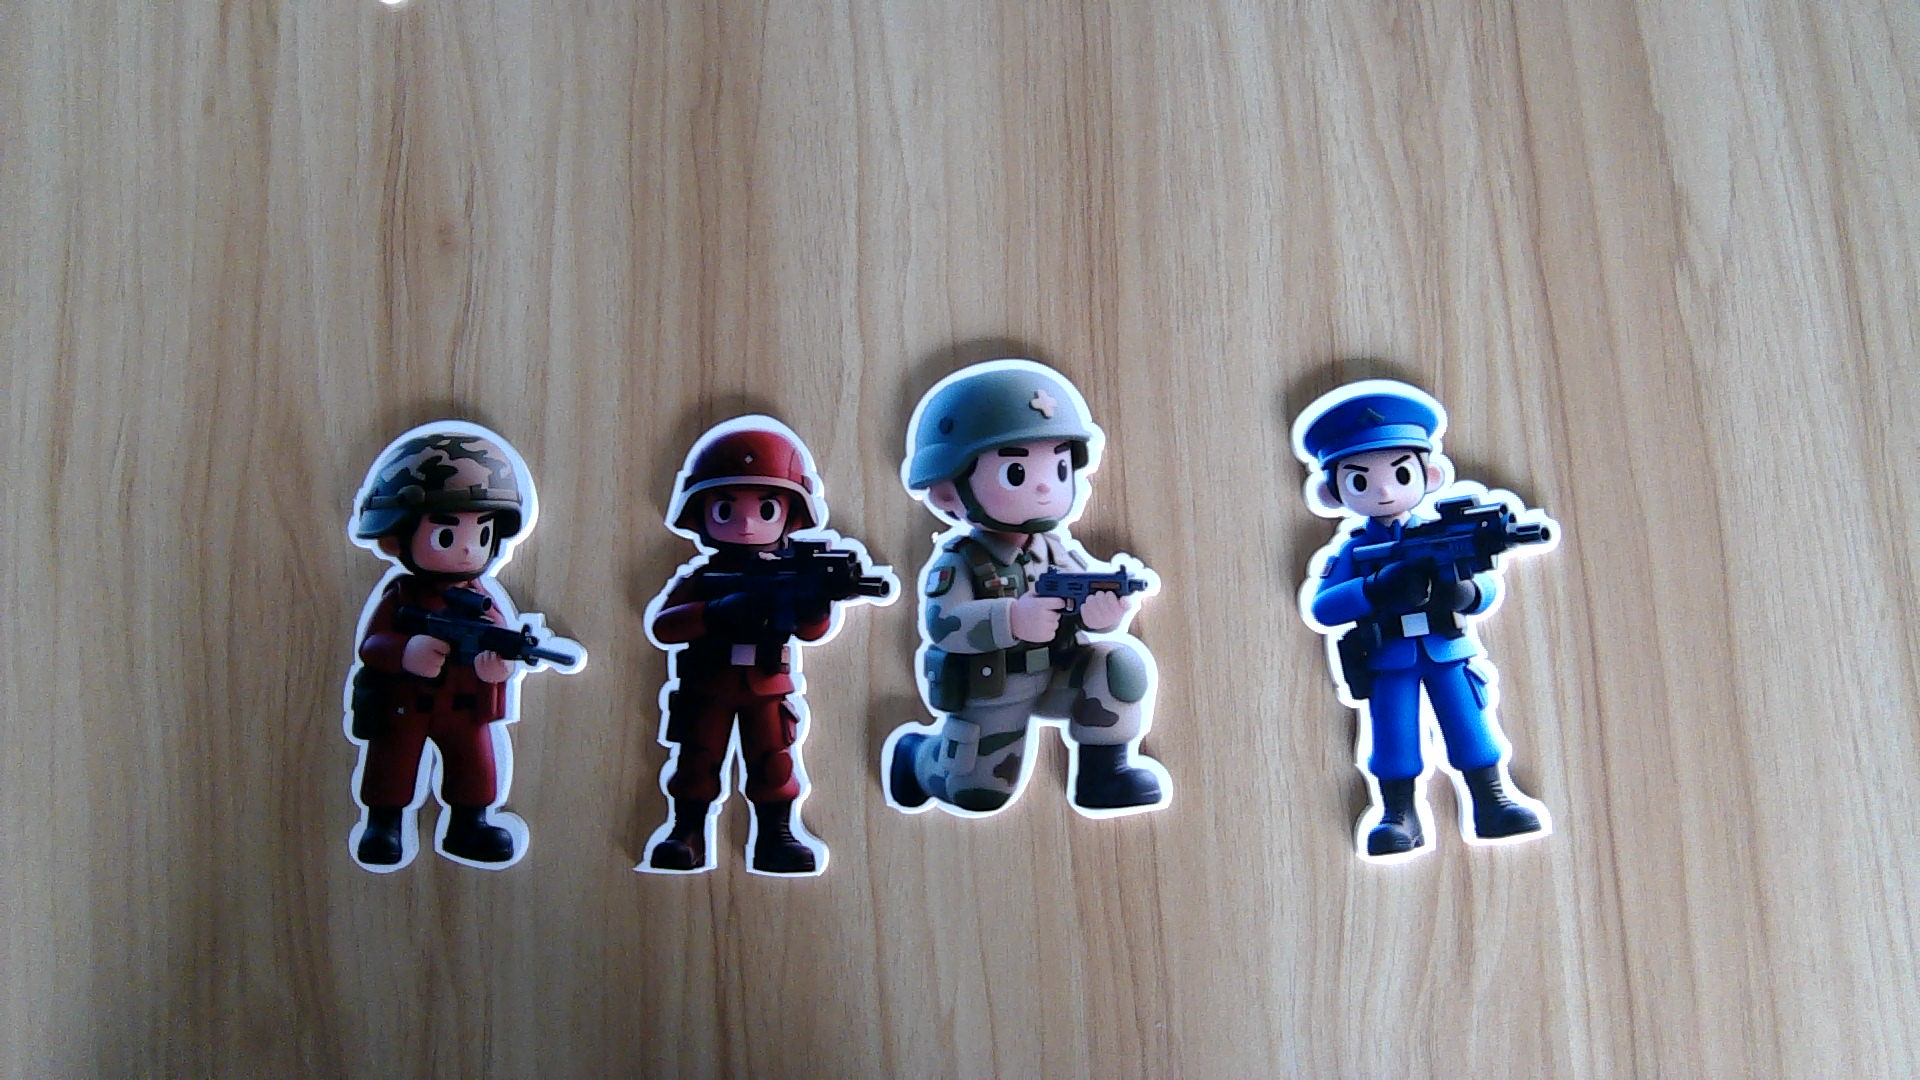友军: (872, 535, 1182, 829)
敌人1: (632, 555, 893, 880), (332, 564, 584, 876)
敌人2: (1280, 520, 1582, 866)
